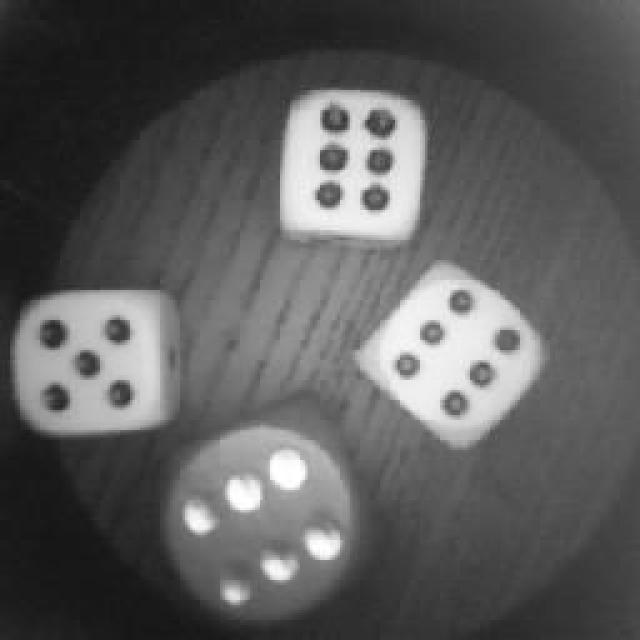dice_5: (5, 278, 183, 440)
dice_6: (152, 395, 390, 640), (358, 260, 552, 448), (268, 82, 438, 258)
